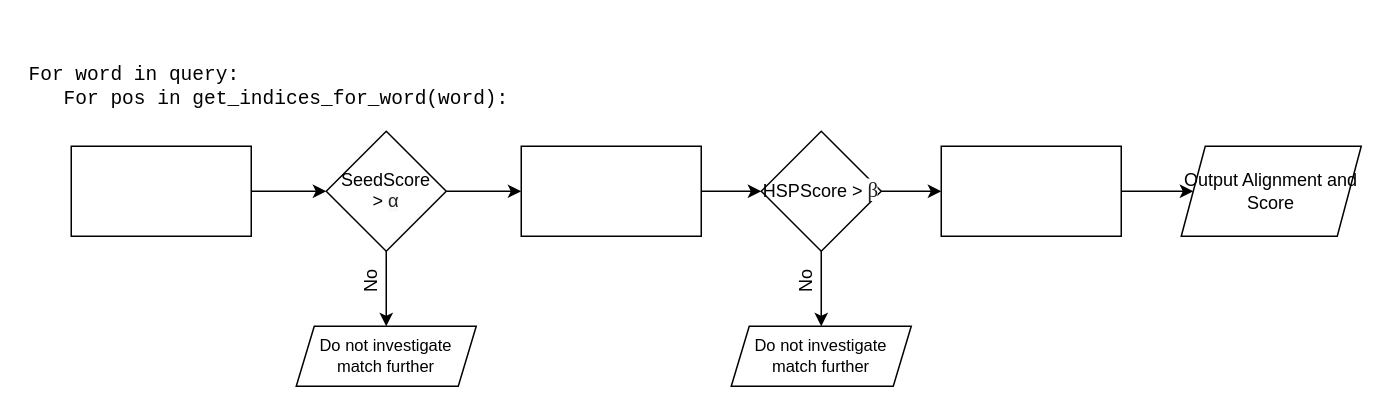
This 1388x413 diagram has some shape labels left out. The shapes that lost their labels are listed below. From the top down, each one's centre as x and y in pixels, then its label:
At (x=160, y=190): "ScoreSeed(pos)".
At (x=610, y=190): "Ungapped Extension While(maxscore-score> 𝛿)".
At (x=1030, y=190): "Gapped Extension NW on remaining query".
